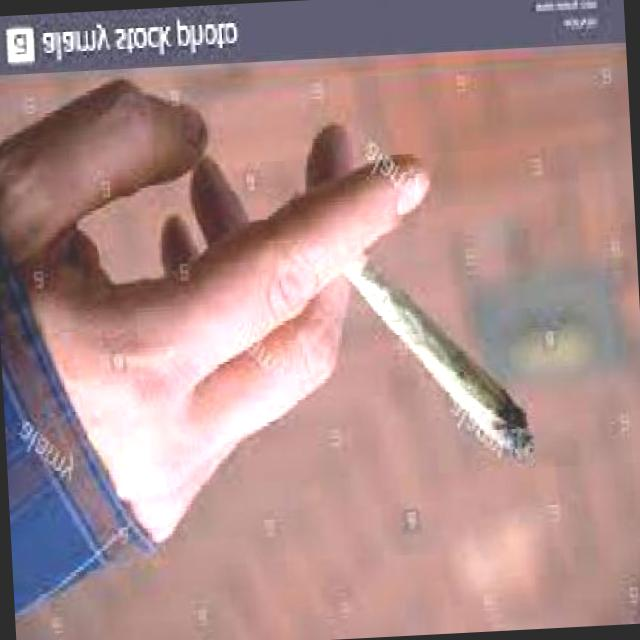cigarette: (344, 246, 538, 475)
